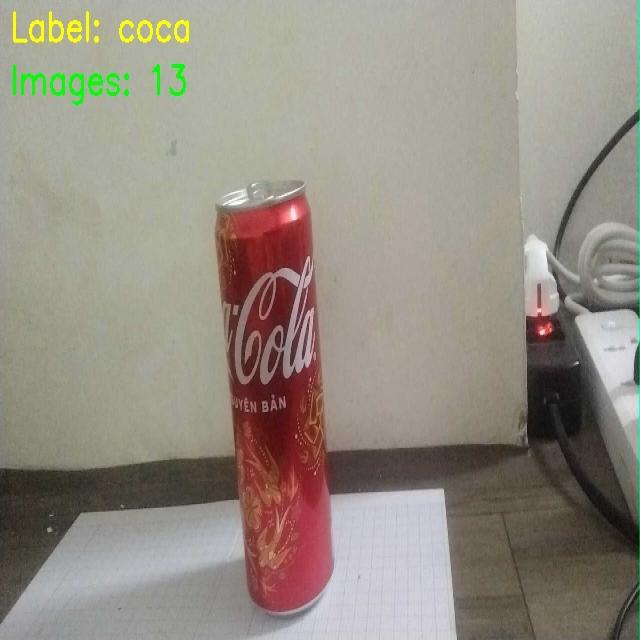Coca: (183, 163, 370, 629)
